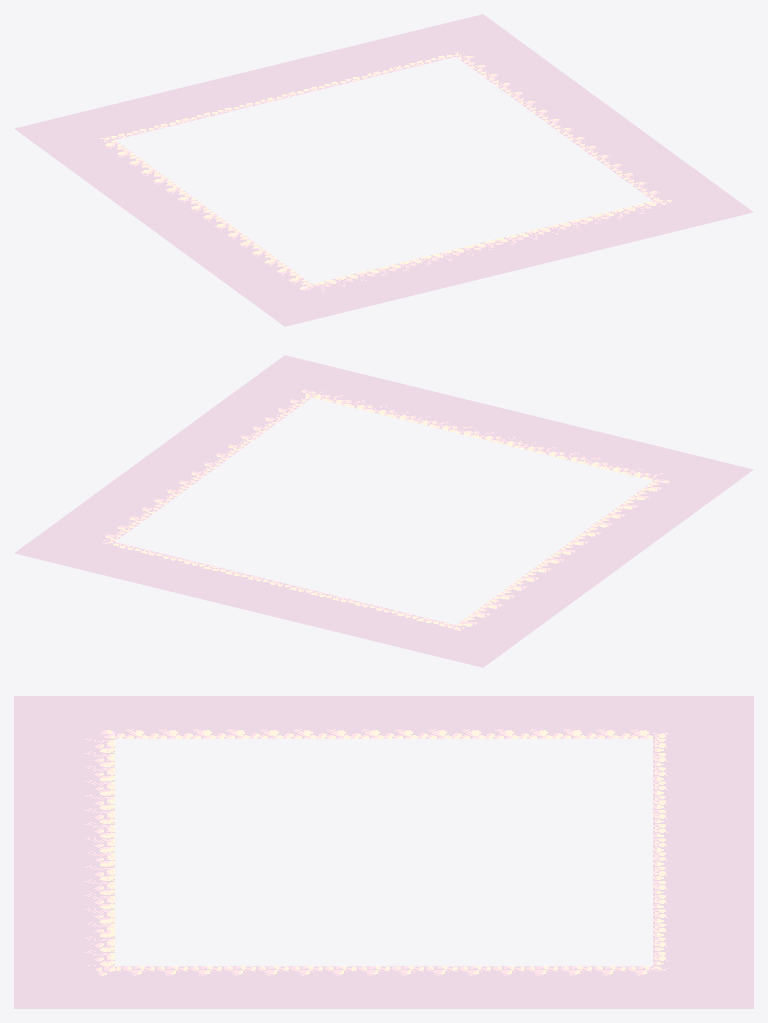
3 renders of one model, top to bottom at view 1: azimuth 30°, elevation 25°; view 2: azimuth 150°, elevation 25°; view 3: azimuth 270°, elevation 25°, orthographic. The views are drawn at different scales.
Parts seen in each view (by area): view 1: Cube; view 2: Cube; view 3: Cube.
Boxes of the visible parts, left/top/right/bottom form: Cube: left=14, top=14, right=753, bottom=326; Cube: left=14, top=355, right=753, bottom=667; Cube: left=14, top=696, right=753, bottom=1008.
Size of the model in its own units: 11 by 0 by 11.
